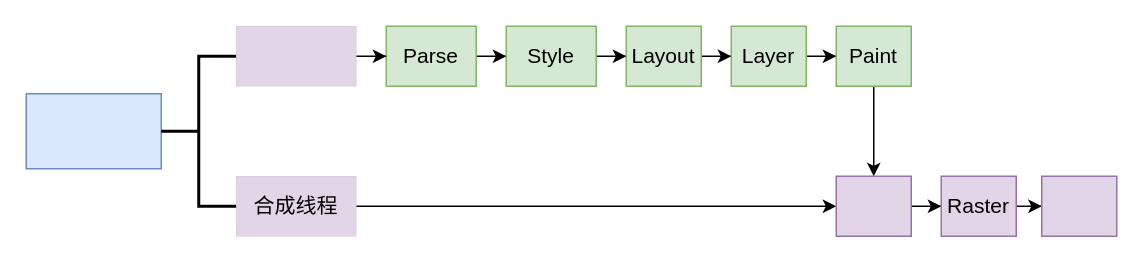
Some shapes in this 1143 by 263 pixel diagram are drawn without their labels. The centre of each missing label's shape, as x and y in pixels:
Draw: the point at 1078,205
Tiling: the point at 873,205
渲染主线程: the point at 296,56
渲染进程: the point at 93,130
